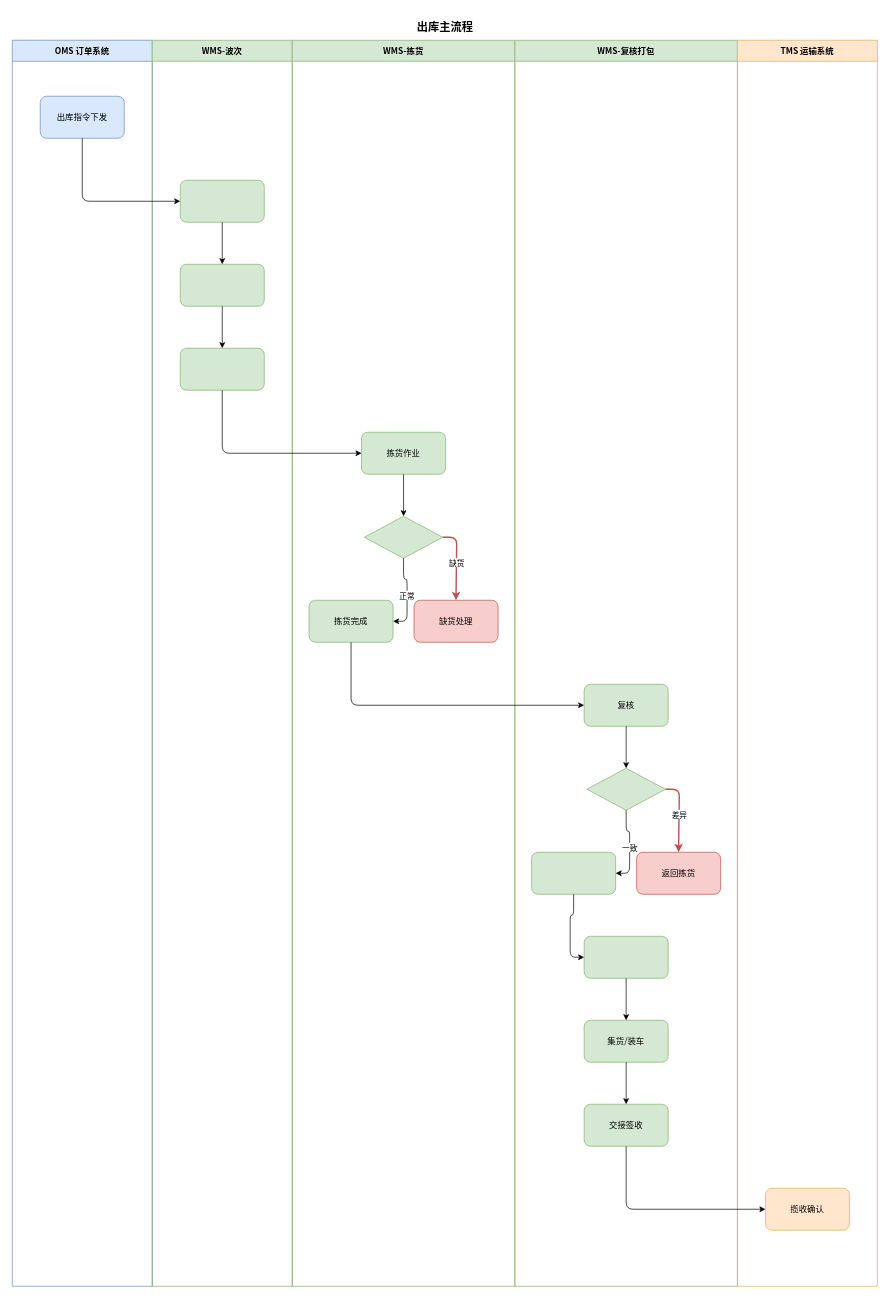
Image size: 890x1299. Some labels were removed from this diagram. Here are the shapes that lost their labels. From the top down, the centre of each, then its label:
At point (222, 201): "接收出库单".
At point (222, 285): "波次规划".
At point (222, 369): "生成拣货任务".
At point (403, 537): "拣货结果".
At point (625, 789): "复核结果".
At point (573, 873): "打包".
At point (625, 957): "称重/贴面单".
